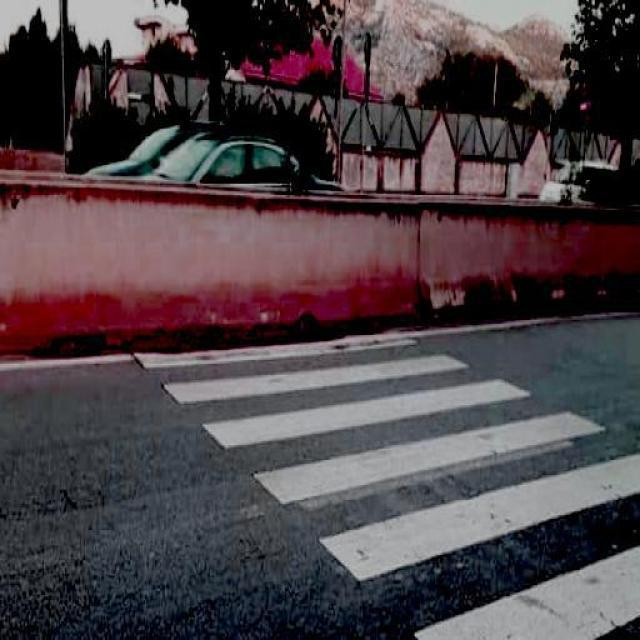crosswalk: (134, 336, 640, 640)
